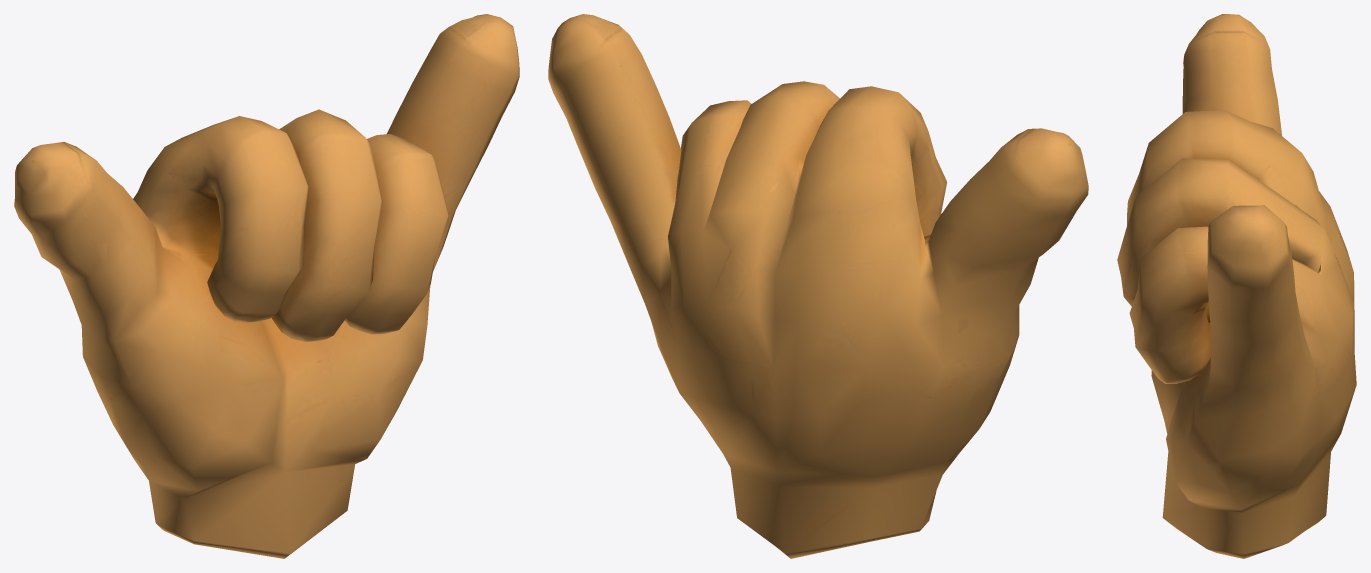
The model's file is art_shaka_gold.glb.
3 views of the same model, side by side, from view 1: azimuth 30°, elevation 25°; view 2: azimuth 150°, elevation 25°; view 3: azimuth 270°, elevation 25° (orthographic). The views are drawn at different scales.
Size of the model in its own units: 1 by 0.873 by 0.4375.
Materials: 1 (1 with a texture image).
